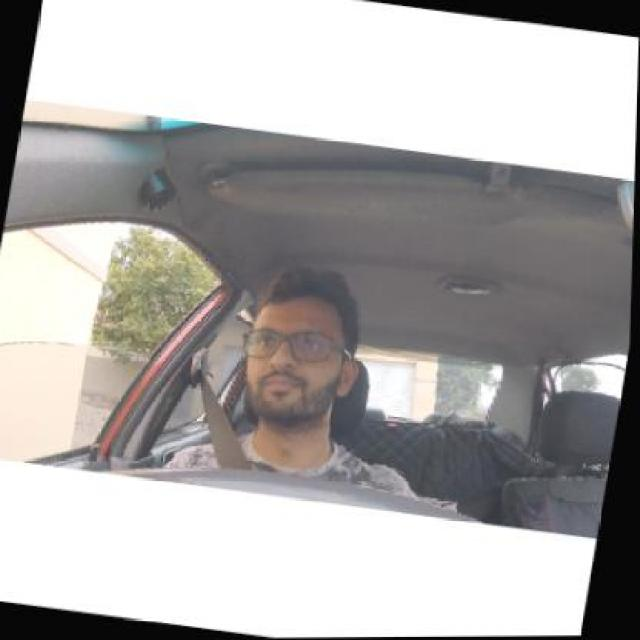person: (238, 264, 364, 439)
